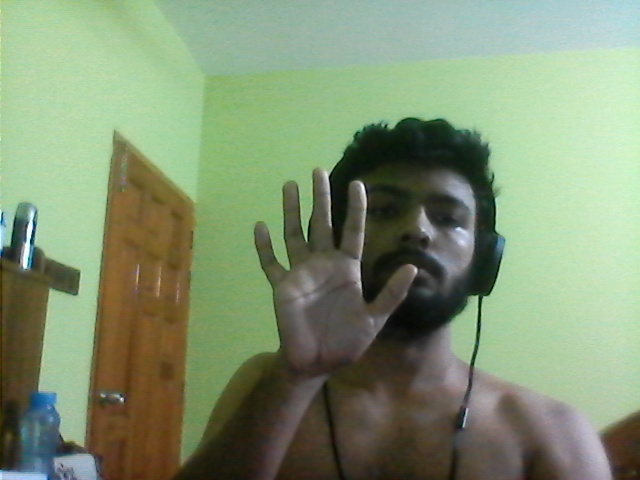Hello: (251, 168, 418, 383)
